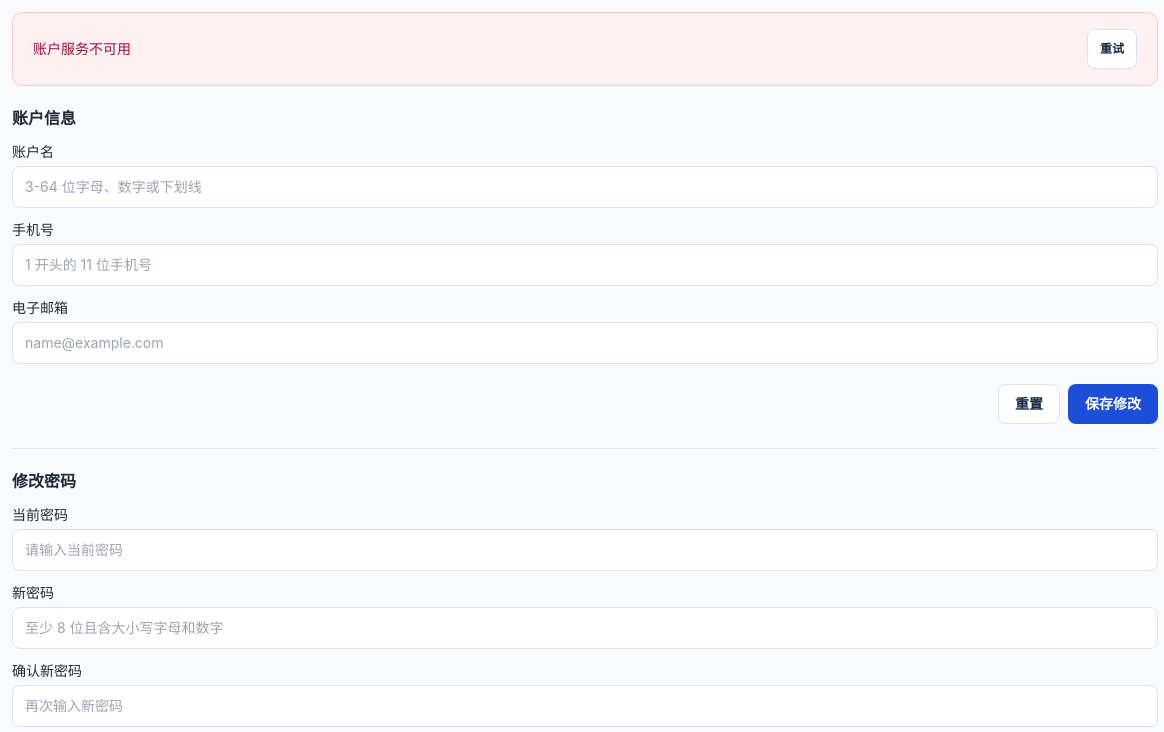
it: SettingsAccount › shows a retryable load error and disables risky saves after a load failure
expect the message "账户服务不可用 重试" is shown: met, box top-left (12, 12), bottom-right (1158, 86)
expect the button "保存修改" is disabled: met, box top-left (1068, 384), bottom-right (1158, 424)
Click the button "重试" at (1112, 49), box top-left (1087, 29), bottom-right (1137, 69)
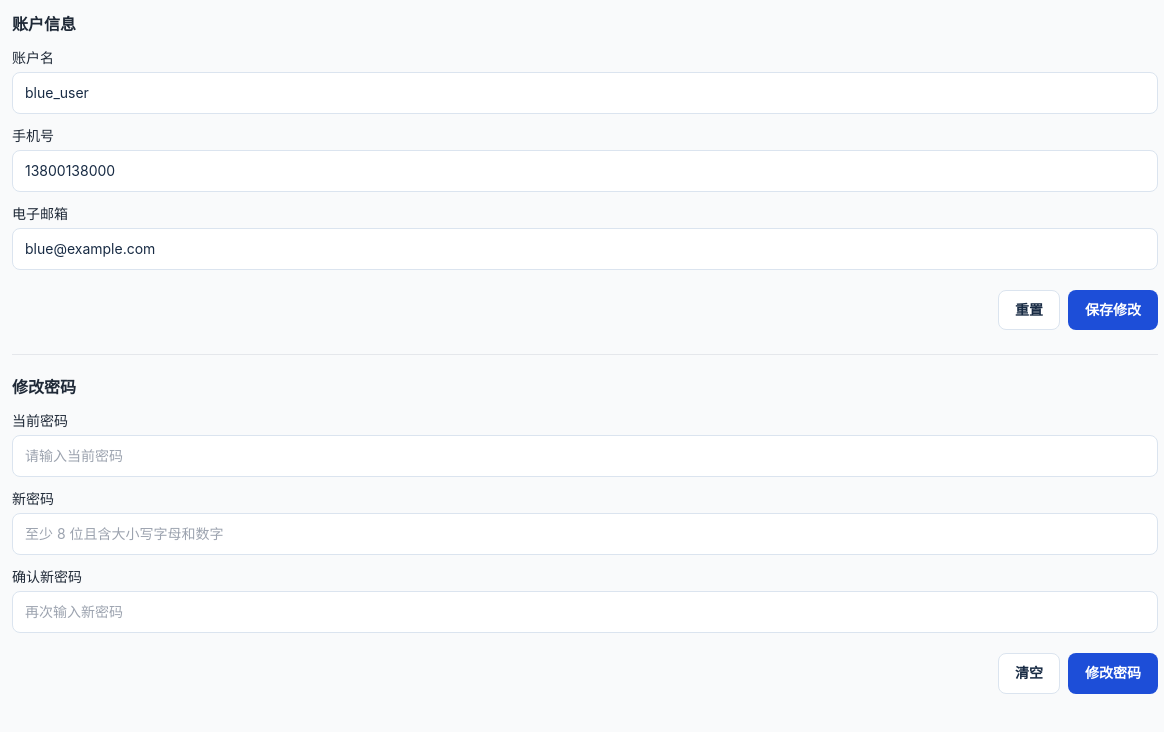
expect the text "账户服务不可用" is gone: met
expect the field with id "settings-account-username" holds "blue_user": met, box top-left (12, 72), bottom-right (1158, 114)
